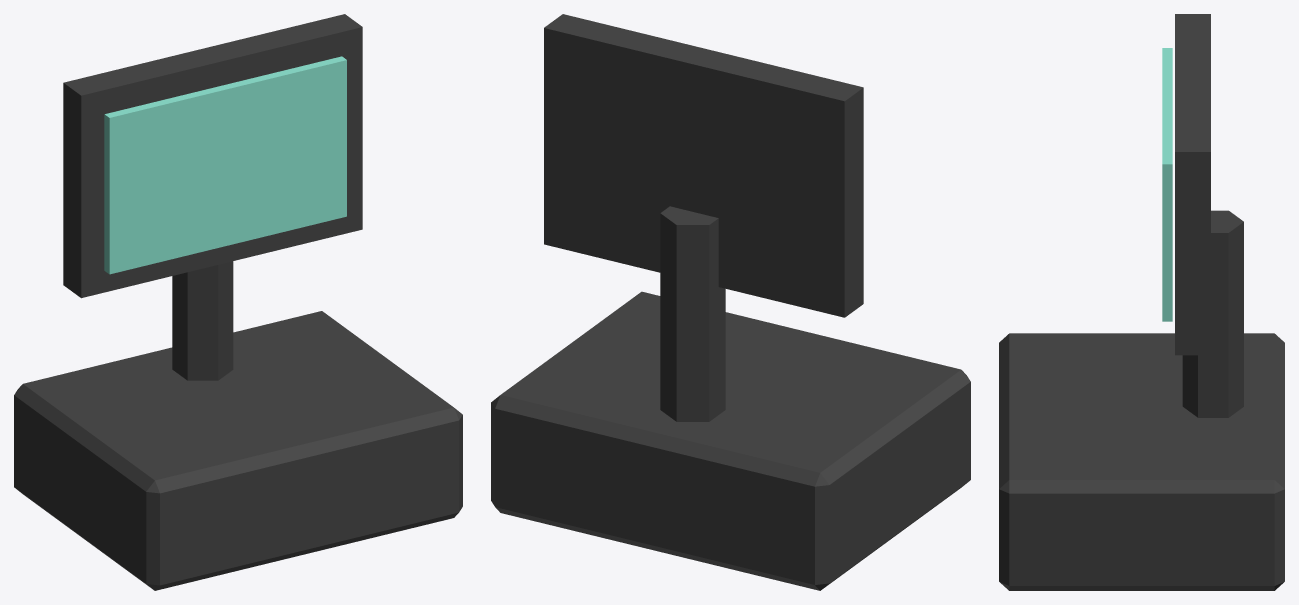
3 views of the same model, side by side, from view 1: azimuth 30°, elevation 25°; view 2: azimuth 150°, elevation 25°; view 3: azimuth 270°, elevation 25° (orthographic). The views are drawn at different scales.
Visible parts, largest first — view 1: Register base, Readout, Screen, Screen stem; view 2: Register base, Screen, Screen stem; view 3: Register base, Screen, Screen stem, Readout.
Part boxes in pixels (box(x1,y1,x2,y2)): Register base: box(14, 311, 462, 590); Readout: box(104, 56, 346, 274); Screen: box(63, 14, 362, 298); Screen stem: box(172, 261, 233, 380); Register base: box(491, 291, 970, 590); Screen: box(544, 14, 863, 317); Screen stem: box(660, 206, 725, 421); Register base: box(999, 333, 1284, 590); Screen: box(1175, 14, 1210, 355); Screen stem: box(1182, 210, 1243, 417); Readout: box(1162, 48, 1172, 321).
Bounding box in the file's own units: 0.36 × 0.47 × 0.28.
1 material, 1 textured.
